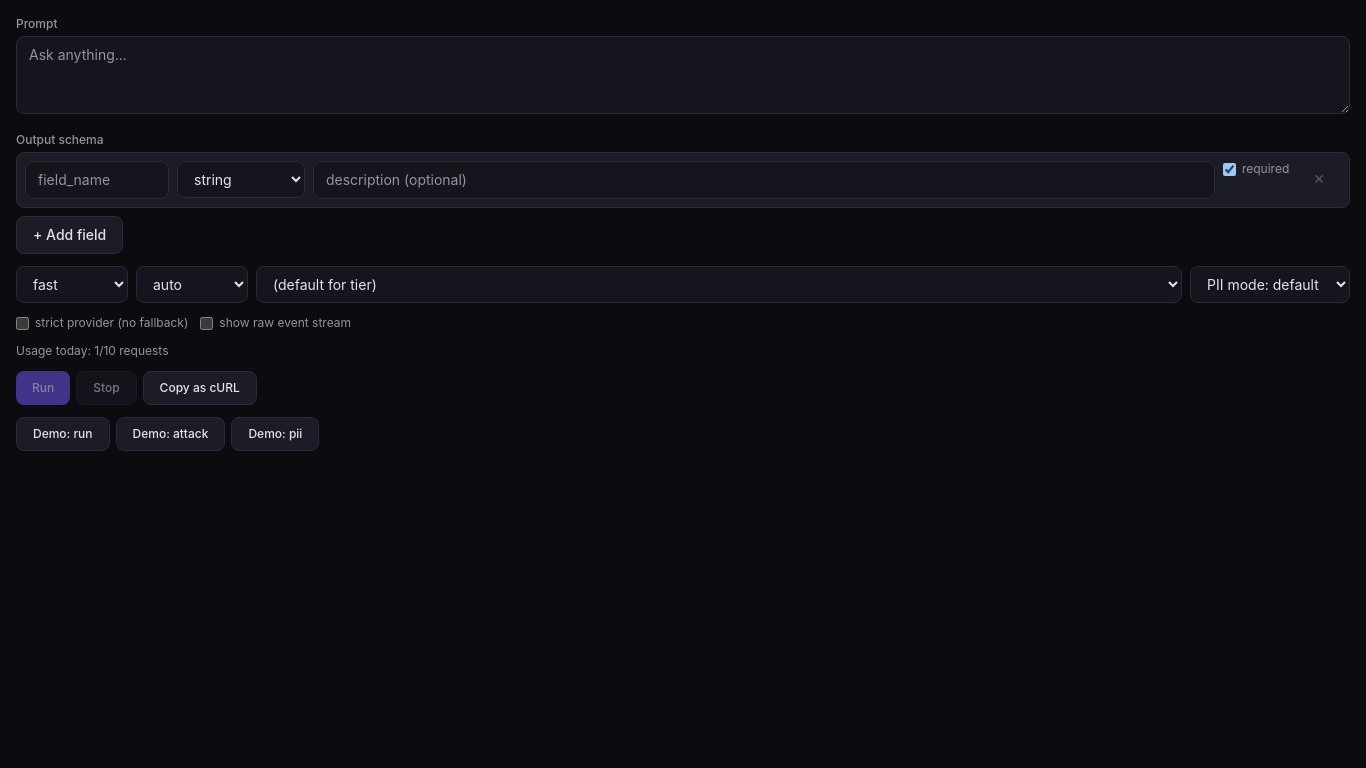
LiveRunPanel error handling › shows a generic connection message for a non-ApiError failure
Type "hi" into the text box with placeholder "Ask anything..." at (683,75), box [16,36,1350,114]
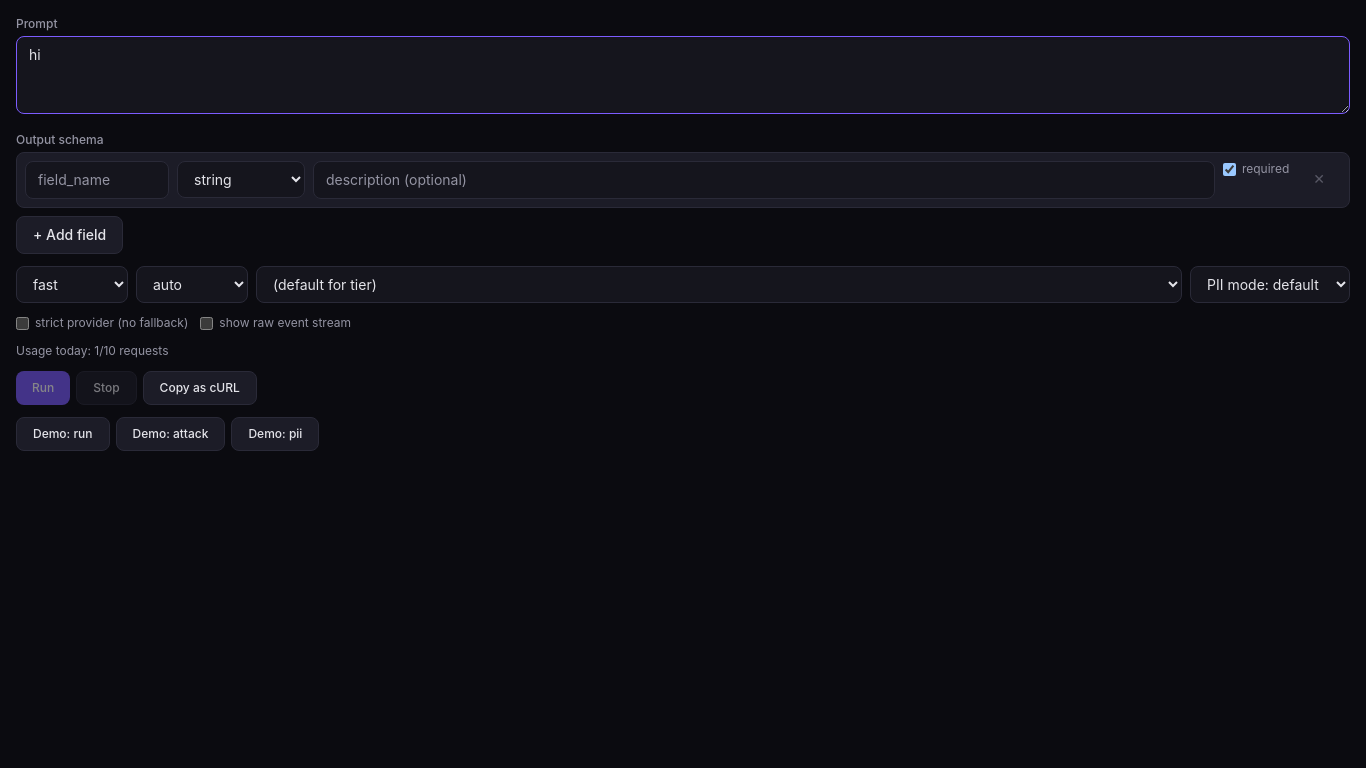
Type "answer" into the field with placeholder "field_name" at (97,180), box [25,161,169,199]
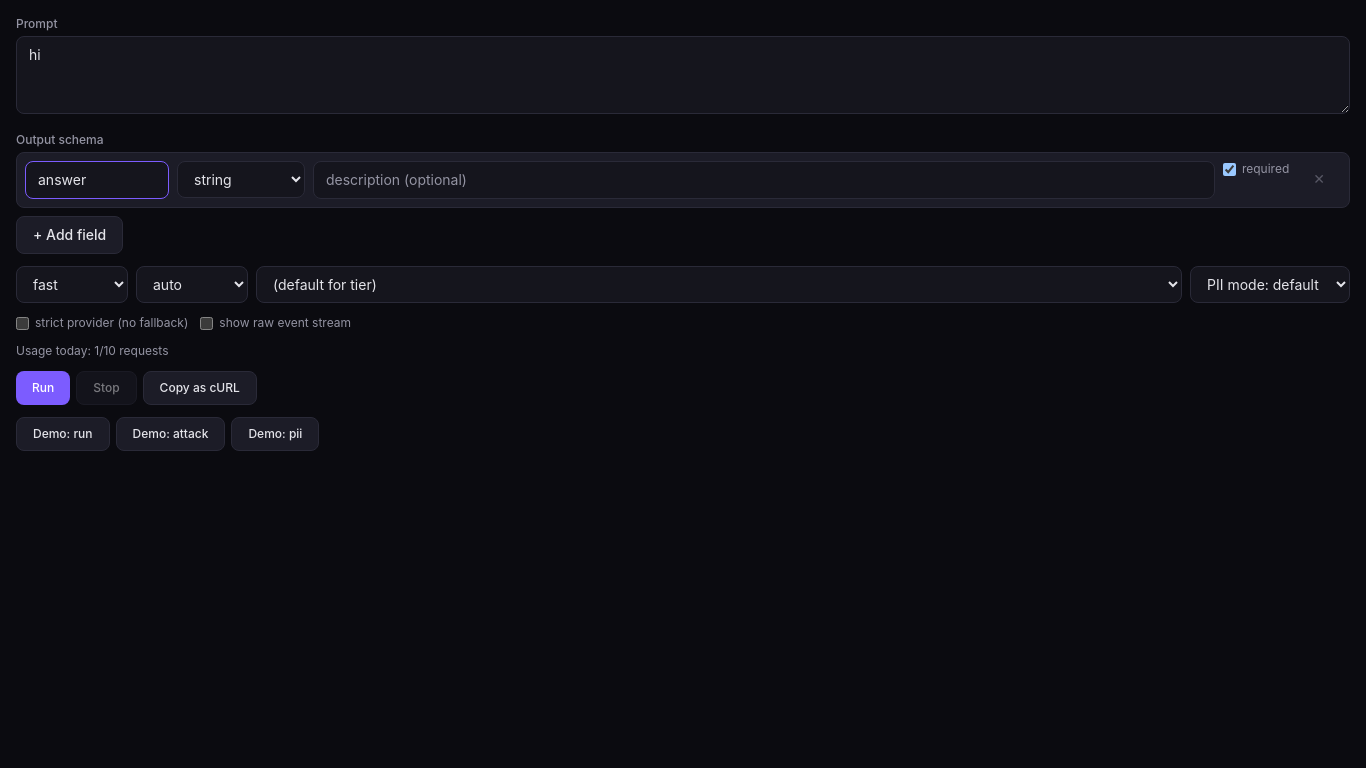
Check: the button "Run" is enabled
Click the button "Run" at (43,388), box [16,371,70,405]
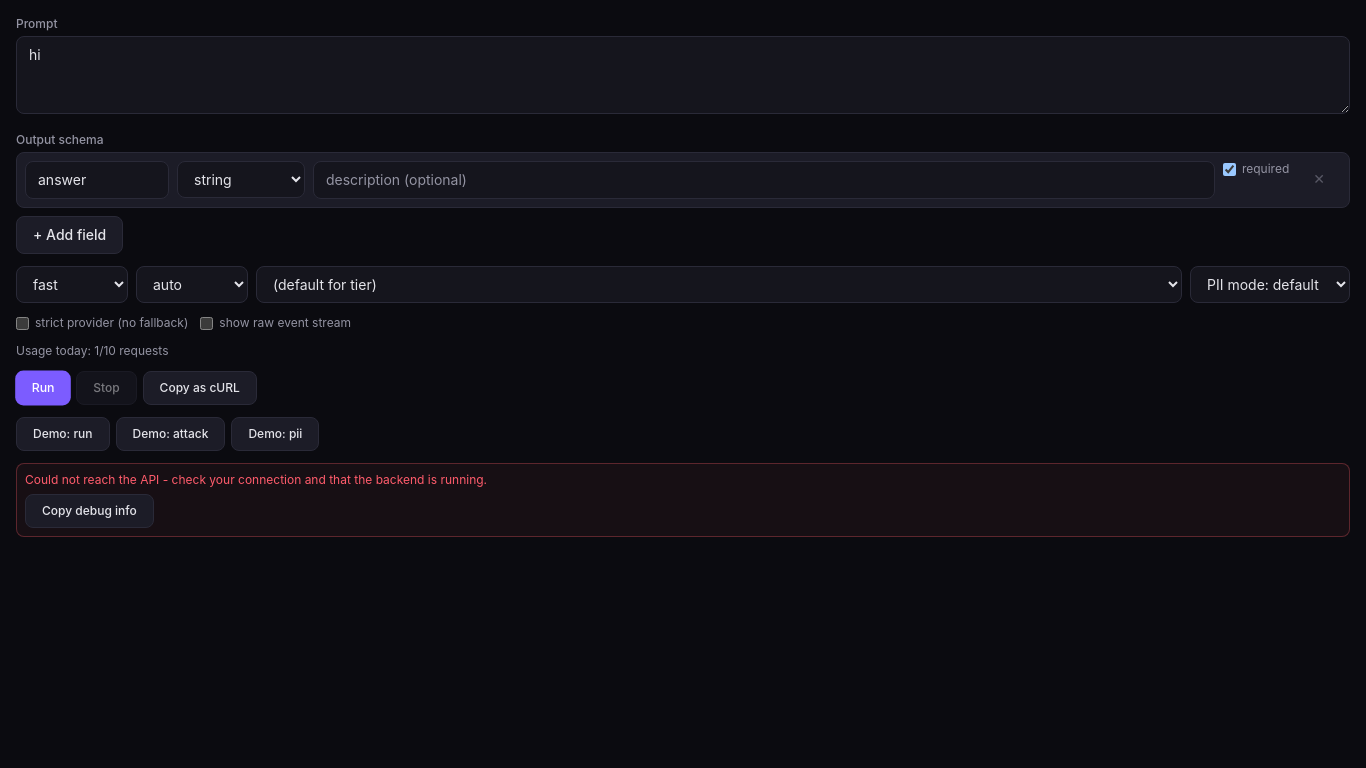
Check: the text "Could not reach the API" is shown, box [25,472,487,487]
